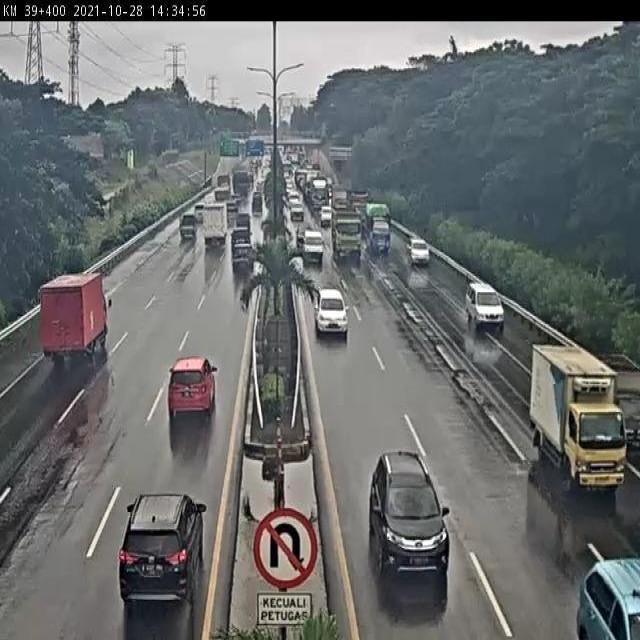big truck: (332, 210, 364, 262)
car: (104, 485, 211, 619), (369, 449, 452, 575), (157, 341, 220, 451), (572, 545, 640, 640), (609, 359, 640, 465), (308, 283, 348, 345), (470, 276, 506, 329), (403, 228, 433, 265), (299, 224, 325, 263), (225, 250, 251, 286), (173, 215, 196, 245), (231, 236, 248, 251)
small truck: (529, 343, 617, 497), (31, 262, 121, 382), (191, 200, 227, 264), (368, 208, 392, 253), (192, 420, 196, 443)
